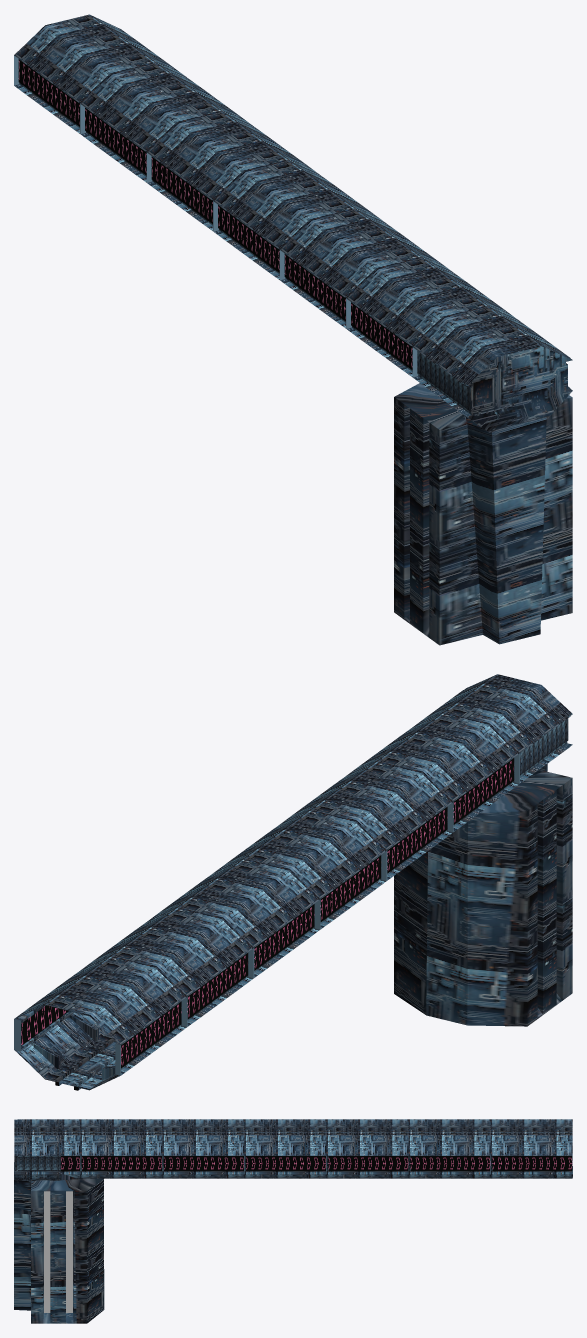
Rendered from Catapult.gltf.
The picture shows the model from 3 angles, top to bottom: view 1: azimuth 30°, elevation 25°; view 2: azimuth 150°, elevation 25°; view 3: azimuth 270°, elevation 25°; orthographic projection. The views are drawn at different scales.
Visible parts, largest first — view 1: 円柱.001; view 2: 円柱.001; view 3: 円柱.001.
Part boxes in pixels (x1=…): 円柱.001: x1=14, y1=14, x2=572, y2=645; 円柱.001: x1=14, y1=674, x2=572, y2=1090; 円柱.001: x1=14, y1=1119, x2=572, y2=1323.
Size of the model in its own units: 30.08 by 62.06 by 177.
Materials: 5 (4 with a texture image).
